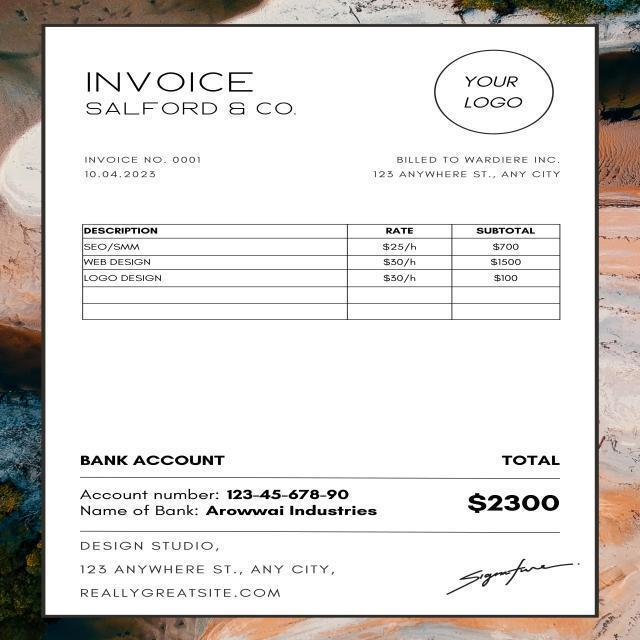ROI: (68, 218, 564, 312), (67, 441, 380, 523), (70, 532, 356, 606), (424, 49, 562, 133), (447, 437, 582, 522), (358, 140, 572, 190), (424, 541, 588, 601), (81, 61, 271, 96), (76, 99, 300, 127), (77, 150, 216, 187)
